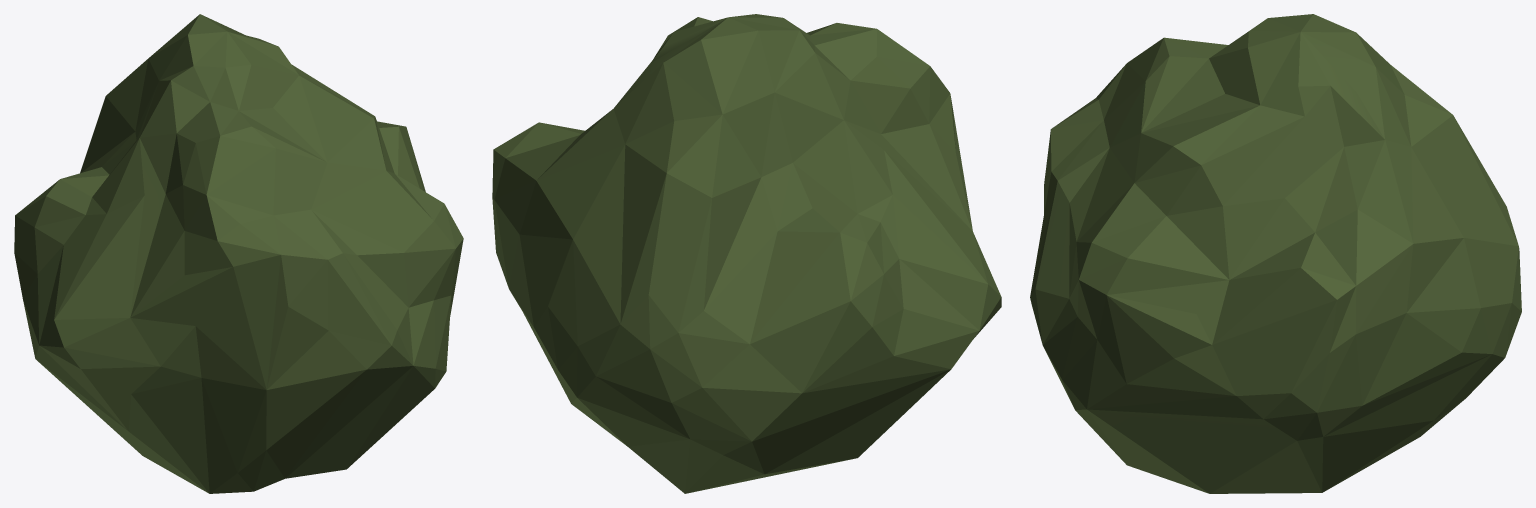
File: bush.glb
The picture shows the model from 3 angles, left to right: view 1: azimuth 30°, elevation 25°; view 2: azimuth 150°, elevation 25°; view 3: azimuth 270°, elevation 25°; orthographic projection. The views are drawn at different scales.
Visible parts, largest first — view 1: SM_Env_Bush_01; view 2: SM_Env_Bush_01; view 3: SM_Env_Bush_01.
Part boxes in pixels (x1=…): SM_Env_Bush_01: x1=14, y1=14, x2=463, y2=493; SM_Env_Bush_01: x1=492, y1=14, x2=1001, y2=493; SM_Env_Bush_01: x1=1030, y1=14, x2=1521, y2=493.
Size of the model in its own units: 1.94 by 1.75 by 1.88.
Materials: 1 (1 with a texture image).
